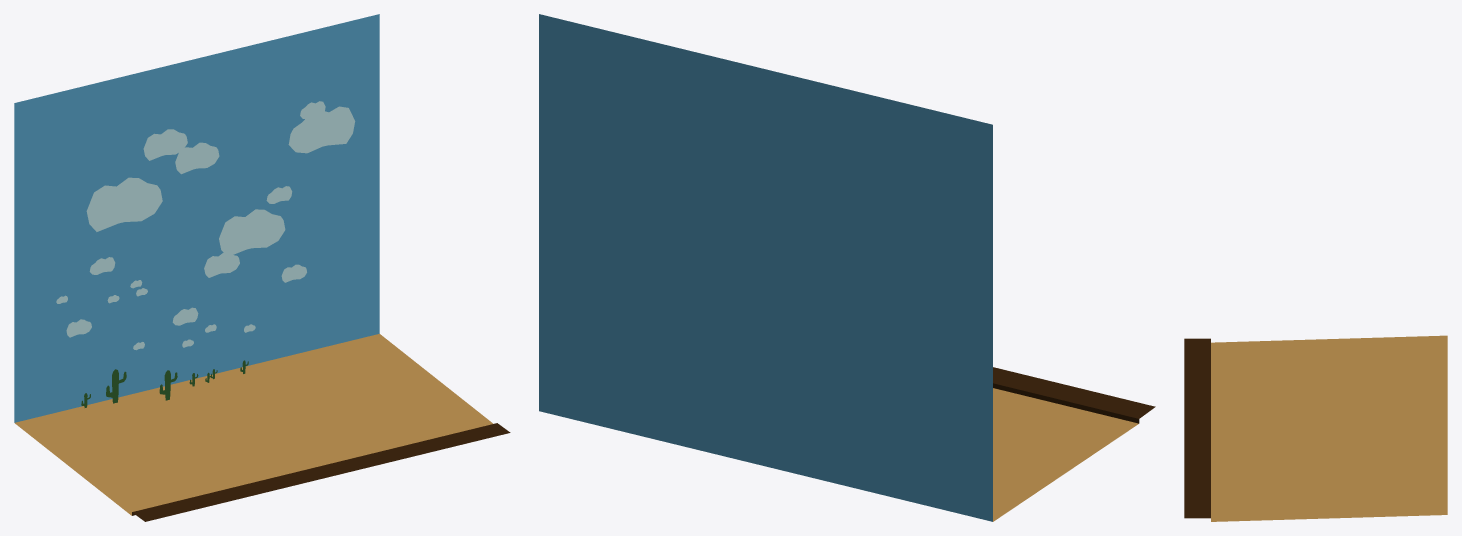
File: Outside_Door_Massive.fbx
3 renders of one model, left to right at view 1: azimuth 30°, elevation 25°; view 2: azimuth 150°, elevation 25°; view 3: azimuth 270°, elevation 25°, orthographic. The views are drawn at different scales.
Visible parts, largest first — view 1: Outside_Door_Massive; view 2: Outside_Door_Massive; view 3: Outside_Door_Massive.
Part boxes in pixels (left/top/right/bottom): Outside_Door_Massive: left=14, top=14, right=510, bottom=521; Outside_Door_Massive: left=539, top=14, right=1155, bottom=521; Outside_Door_Massive: left=1184, top=335, right=1447, bottom=521.
Size of the model in its own units: 1668 by 1425 by 1036.
